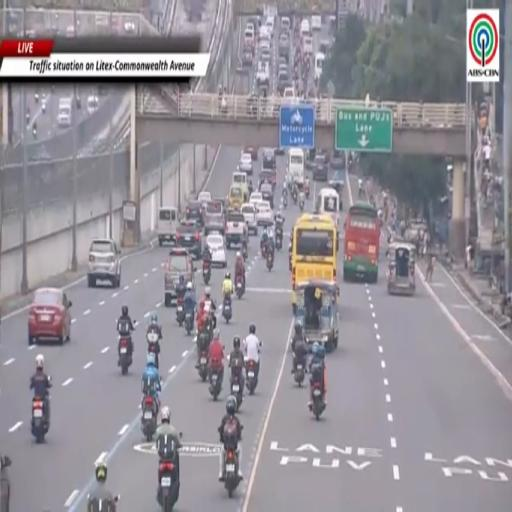bus: (292, 214, 338, 311), (343, 202, 380, 283), (315, 187, 340, 229)
car: (29, 287, 71, 345), (164, 248, 195, 307), (87, 238, 121, 287), (176, 220, 202, 259), (225, 210, 246, 248), (206, 233, 227, 267), (0, 455, 11, 511), (241, 203, 257, 234), (204, 213, 224, 236), (186, 200, 203, 227), (256, 201, 273, 226), (313, 153, 328, 181), (204, 198, 225, 216), (258, 169, 276, 189), (260, 182, 273, 209), (256, 62, 270, 87), (207, 198, 227, 215), (239, 153, 253, 175), (278, 33, 290, 57), (262, 149, 276, 169), (330, 150, 344, 169), (278, 77, 292, 95), (242, 46, 253, 67), (87, 95, 98, 115), (243, 146, 257, 161), (283, 87, 296, 103), (249, 191, 263, 205), (198, 191, 211, 205), (311, 14, 321, 30), (300, 20, 309, 37), (260, 47, 270, 62)
jeepney: (294, 280, 339, 351), (387, 243, 416, 295)
motorcycle: (157, 437, 179, 511), (224, 435, 240, 498), (158, 461, 177, 511), (31, 397, 49, 443), (141, 396, 157, 441), (310, 381, 325, 420), (119, 335, 132, 375), (88, 495, 120, 511), (147, 331, 159, 369), (231, 375, 242, 411), (209, 368, 221, 401), (246, 360, 257, 394), (198, 350, 208, 381), (222, 296, 232, 323), (176, 297, 185, 327), (294, 363, 305, 387), (236, 276, 244, 299), (185, 312, 193, 335), (203, 262, 211, 285), (266, 252, 273, 271), (276, 230, 282, 250), (242, 244, 248, 261), (261, 243, 267, 259), (291, 188, 297, 204), (32, 124, 38, 138), (41, 100, 46, 114), (304, 184, 309, 198), (299, 199, 304, 212), (283, 196, 287, 209), (359, 188, 363, 199)
